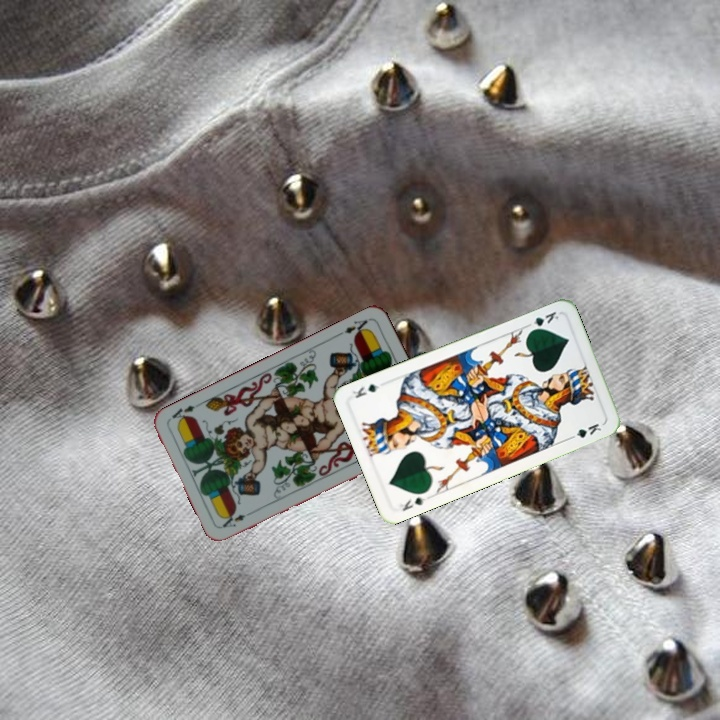EA: (334, 315, 372, 339), (218, 507, 257, 530)
GK: (525, 307, 561, 334), (395, 493, 428, 514)
